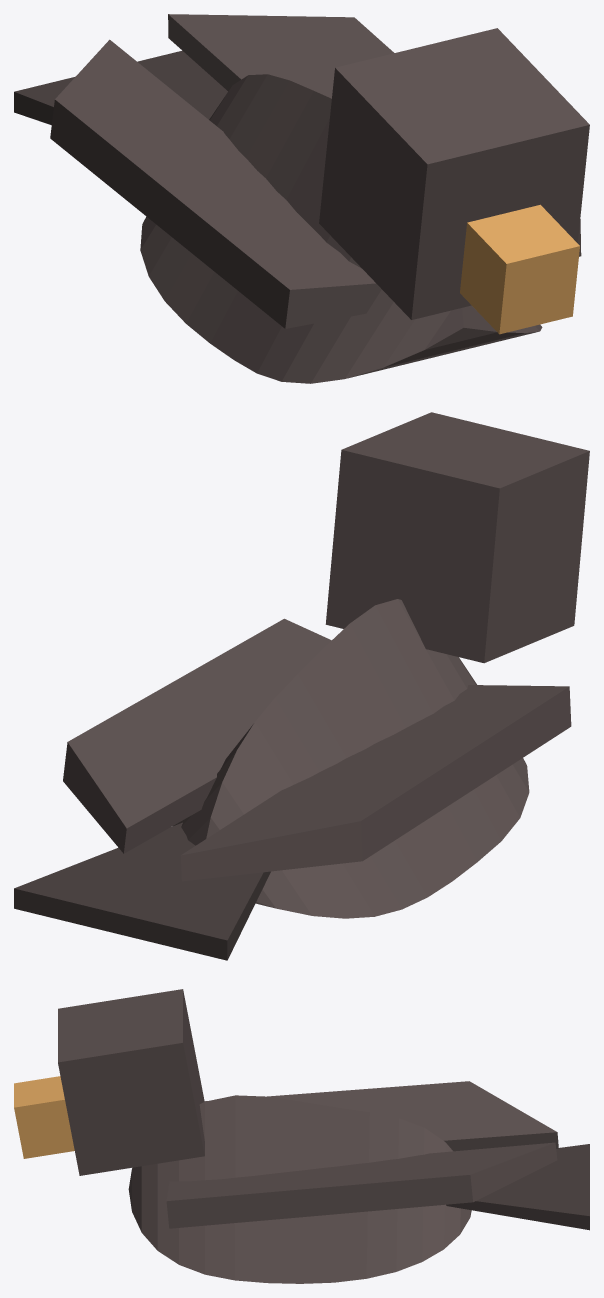
File: bird_1_floating.glb
The picture shows the model from 3 angles, top to bottom: view 1: azimuth 30°, elevation 25°; view 2: azimuth 150°, elevation 25°; view 3: azimuth 270°, elevation 25°; orthographic projection. The views are drawn at different scales.
Parts seen in each view (by area): view 1: Bird_1.005; view 2: Bird_1.005; view 3: Bird_1.005.
Part boxes in pixels (bbox=[...]): Bird_1.005: bbox=[14, 14, 589, 383]; Bird_1.005: bbox=[14, 412, 589, 960]; Bird_1.005: bbox=[14, 989, 589, 1283].
Size of the model in its own units: 0.0972 by 0.0995 by 0.2322.
